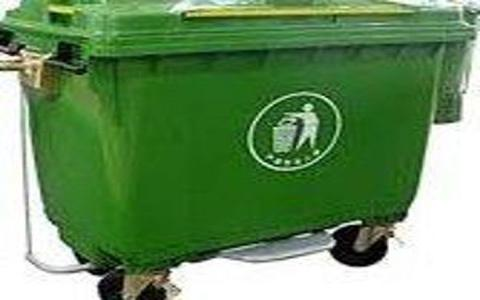Proper garbage: (4, 1, 473, 296)
